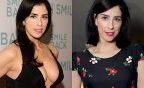female: (89, 2, 128, 50), (16, 3, 55, 46)
